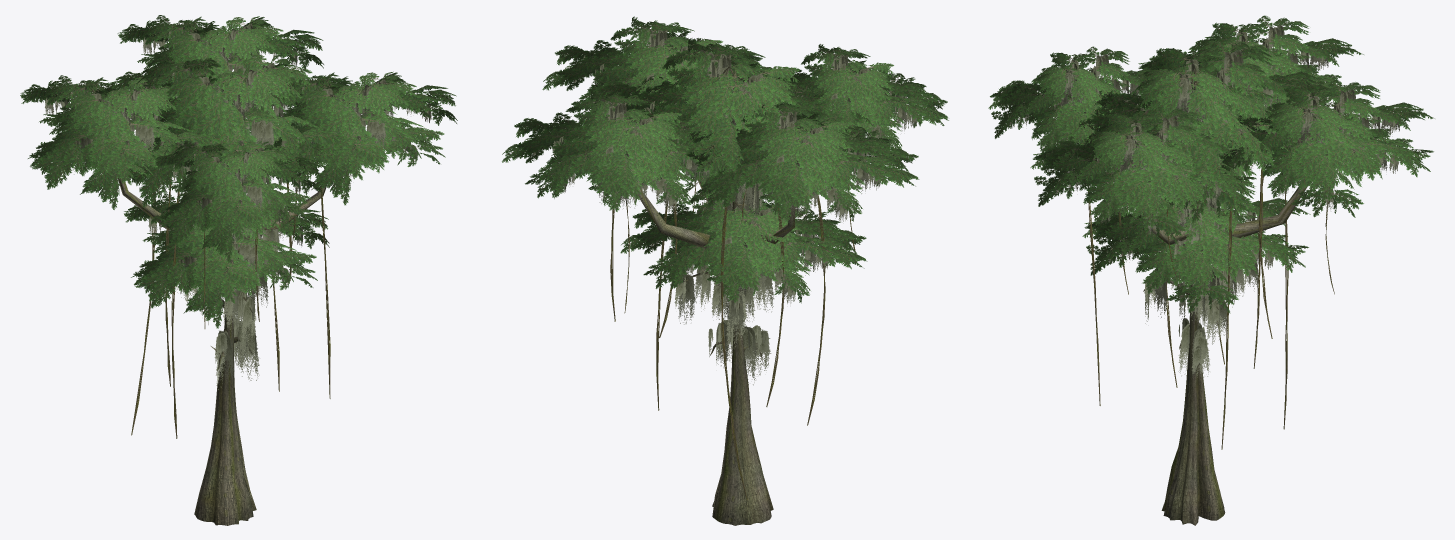
The picture shows the model from 3 angles, left to right: view 1: azimuth 30°, elevation 25°; view 2: azimuth 150°, elevation 25°; view 3: azimuth 270°, elevation 25°; orthographic projection. The views are drawn at different scales.
Parts seen in each view (by area): view 1: bald_cypress_03:Mesh_bald_cypress_03:Leaves_4_0_29, bald_cypress_03:Mesh_bald_cypress_03:Leaves_4_0.004_47, bald_cypress_03:Mesh_bald_cypress_03:Leaves_4_0.005_48, bald_cypress_03:Mesh_bald_cypress_03:Leaves_4_0.002_45, bald_cypress_03:Mesh_bald_cypress_03:Leaves_4_0.003_46, bald_cypress_03:Mesh_bald_cypress_03:Leaves_4_0.001_44, cypres_chauve_cypreschauve_bark_D_cypreschauve_bark_D_0_2, cypres_chauve_CypresChauve_mousse_D_CypresChauve_mousse_D_0_, pCylinder8_Vine01_0.012_24; view 2: bald_cypress_03:Mesh_bald_cypress_03:Leaves_4_0.004_47, bald_cypress_03:Mesh_bald_cypress_03:Leaves_4_0.001_44, bald_cypress_03:Mesh_bald_cypress_03:Leaves_4_0.003_46, bald_cypress_03:Mesh_bald_cypress_03:Leaves_4_0_29, bald_cypress_03:Mesh_bald_cypress_03:Leaves_4_0.002_45, bald_cypress_03:Mesh_bald_cypress_03:Leaves_4_0.005_48, cypres_chauve_cypreschauve_bark_D_cypreschauve_bark_D_0_2, cypres_chauve_CypresChauve_mousse_D_CypresChauve_mousse_D_0_, bald_cypress_03:Mesh_bald_cypress_03:Branches_3_0_59, pCylinder8_Vine01_0.007_19, pCylinder8_Vine01_0.008_20; view 3: bald_cypress_03:Mesh_bald_cypress_03:Leaves_4_0_29, bald_cypress_03:Mesh_bald_cypress_03:Leaves_4_0.005_48, bald_cypress_03:Mesh_bald_cypress_03:Leaves_4_0.001_44, bald_cypress_03:Mesh_bald_cypress_03:Leaves_4_0.003_46, bald_cypress_03:Mesh_bald_cypress_03:Leaves_4_0.002_45, bald_cypress_03:Mesh_bald_cypress_03:Leaves_4_0.004_47, cypres_chauve_cypreschauve_bark_D_cypreschauve_bark_D_0_2, cypres_chauve_CypresChauve_mousse_D_CypresChauve_mousse_D_0_, bald_cypress_03:Mesh_bald_cypress_03:Branches_3_0_59, pCylinder8_Vine01_0.011_23, pCylinder8_Vine01_0.007_19.
Boxes of the visible parts, box(x1,y1,x2,y2) form: bald_cypress_03:Mesh_bald_cypress_03:Leaves_4_0_29: box(110, 53, 351, 208); bald_cypress_03:Mesh_bald_cypress_03:Leaves_4_0.004_47: box(20, 75, 212, 209); bald_cypress_03:Mesh_bald_cypress_03:Leaves_4_0.005_48: box(269, 71, 457, 205); bald_cypress_03:Mesh_bald_cypress_03:Leaves_4_0.002_45: box(155, 140, 322, 262); bald_cypress_03:Mesh_bald_cypress_03:Leaves_4_0.003_46: box(124, 194, 329, 328); bald_cypress_03:Mesh_bald_cypress_03:Leaves_4_0.001_44: box(117, 15, 323, 120); cypres_chauve_cypreschauve_bark_D_cypreschauve_bark_D_0_2: box(194, 75, 256, 525); cypres_chauve_CypresChauve_mousse_D_CypresChauve_mousse_D_0_: box(180, 121, 279, 389); pCylinder8_Vine01_0.012_24: box(320, 173, 330, 398); bald_cypress_03:Mesh_bald_cypress_03:Leaves_4_0.004_47: box(677, 102, 919, 221); bald_cypress_03:Mesh_bald_cypress_03:Leaves_4_0.001_44: box(502, 89, 741, 214); bald_cypress_03:Mesh_bald_cypress_03:Leaves_4_0.003_46: box(620, 192, 867, 303); bald_cypress_03:Mesh_bald_cypress_03:Leaves_4_0_29: box(589, 38, 873, 206); bald_cypress_03:Mesh_bald_cypress_03:Leaves_4_0.002_45: box(765, 44, 948, 152); bald_cypress_03:Mesh_bald_cypress_03:Leaves_4_0.005_48: box(542, 16, 773, 123); cypres_chauve_cypreschauve_bark_D_cypreschauve_bark_D_0_2: box(682, 67, 773, 525); cypres_chauve_CypresChauve_mousse_D_CypresChauve_mousse_D_0_: box(674, 183, 774, 385); bald_cypress_03:Mesh_bald_cypress_03:Branches_3_0_59: box(638, 189, 709, 248); pCylinder8_Vine01_0.007_19: box(721, 206, 747, 500); pCylinder8_Vine01_0.008_20: box(807, 194, 825, 425); bald_cypress_03:Mesh_bald_cypress_03:Leaves_4_0_29: box(1069, 39, 1335, 224); bald_cypress_03:Mesh_bald_cypress_03:Leaves_4_0.005_48: box(1030, 106, 1256, 244); bald_cypress_03:Mesh_bald_cypress_03:Leaves_4_0.001_44: box(1217, 80, 1434, 217); bald_cypress_03:Mesh_bald_cypress_03:Leaves_4_0.003_46: box(1082, 182, 1310, 313); bald_cypress_03:Mesh_bald_cypress_03:Leaves_4_0.002_45: box(988, 46, 1152, 153); bald_cypress_03:Mesh_bald_cypress_03:Leaves_4_0.004_47: box(1137, 15, 1363, 122); cypres_chauve_cypreschauve_bark_D_cypreschauve_bark_D_0_2: box(1143, 69, 1225, 525); cypres_chauve_CypresChauve_mousse_D_CypresChauve_mousse_D_0_: box(1144, 199, 1258, 378); bald_cypress_03:Mesh_bald_cypress_03:Branches_3_0_59: box(1232, 138, 1308, 237); pCylinder8_Vine01_0.011_23: box(1221, 204, 1232, 449); pCylinder8_Vine01_0.007_19: box(1283, 190, 1288, 429).
Bounding box in the file's own units: 29.58 × 31.51 × 28.31.
9 materials, 9 textured.
